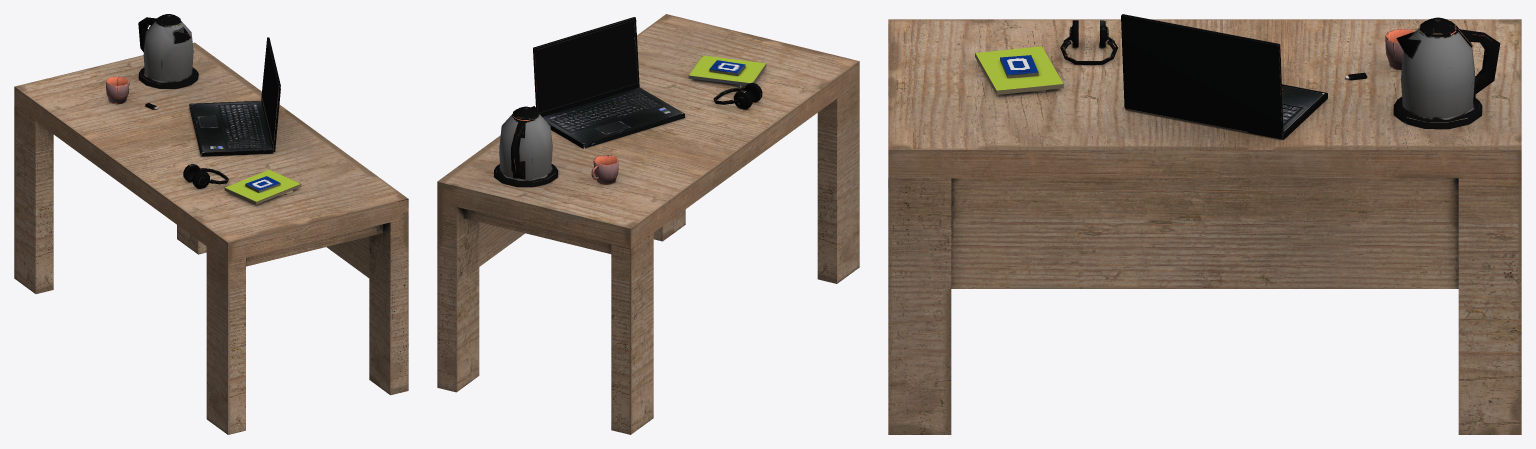
Rendered from table2.obj.
The picture shows the model from 3 angles, left to right: view 1: azimuth 30°, elevation 25°; view 2: azimuth 150°, elevation 25°; view 3: azimuth 270°, elevation 25°; orthographic projection. The views are drawn at different scales.
Parts seen in each view (by area): view 1: table2; view 2: table2; view 3: table2.
Part boxes in pixels (x1,y1,x2,y2): table2: [14, 14, 408, 434]; table2: [437, 14, 859, 434]; table2: [888, 14, 1521, 434].
Size of the model in its own units: 98.31 by 135 by 201.
